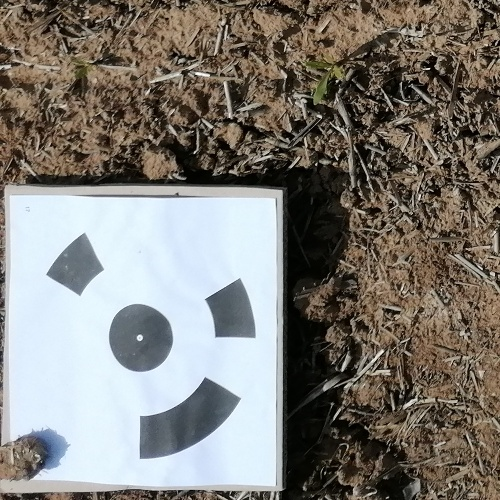beet: (301, 54, 348, 104)
